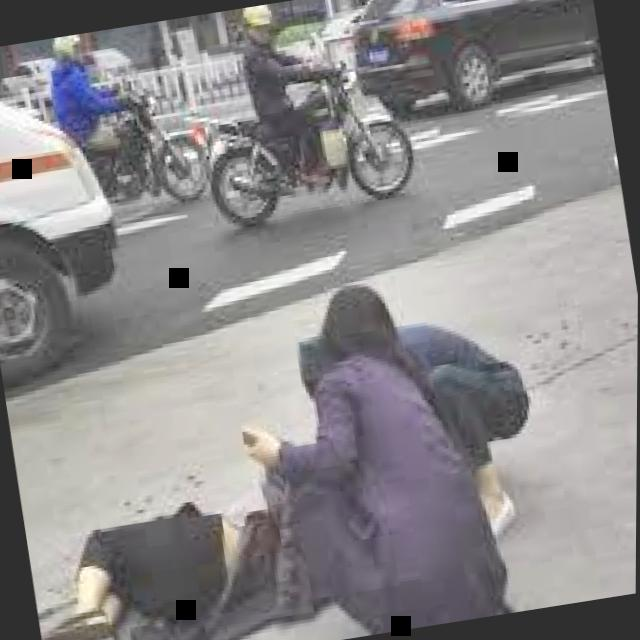Fall-Detected: (14, 411, 348, 640)
